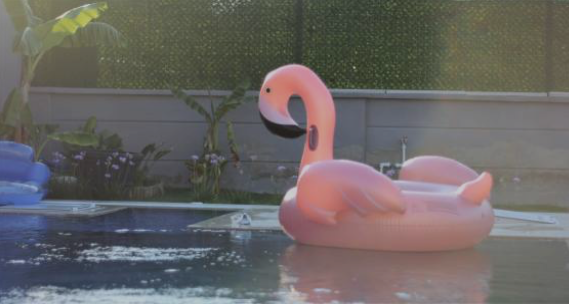Flamingo: (256, 63, 496, 258)
